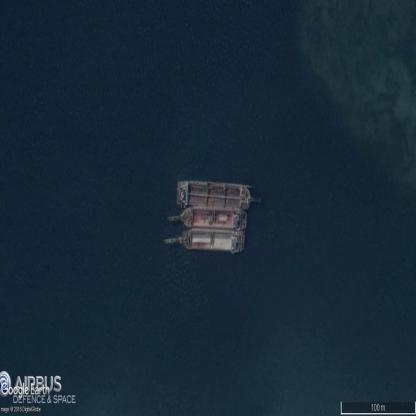ship: (176, 181, 251, 211), (163, 229, 246, 251), (168, 210, 247, 229)
